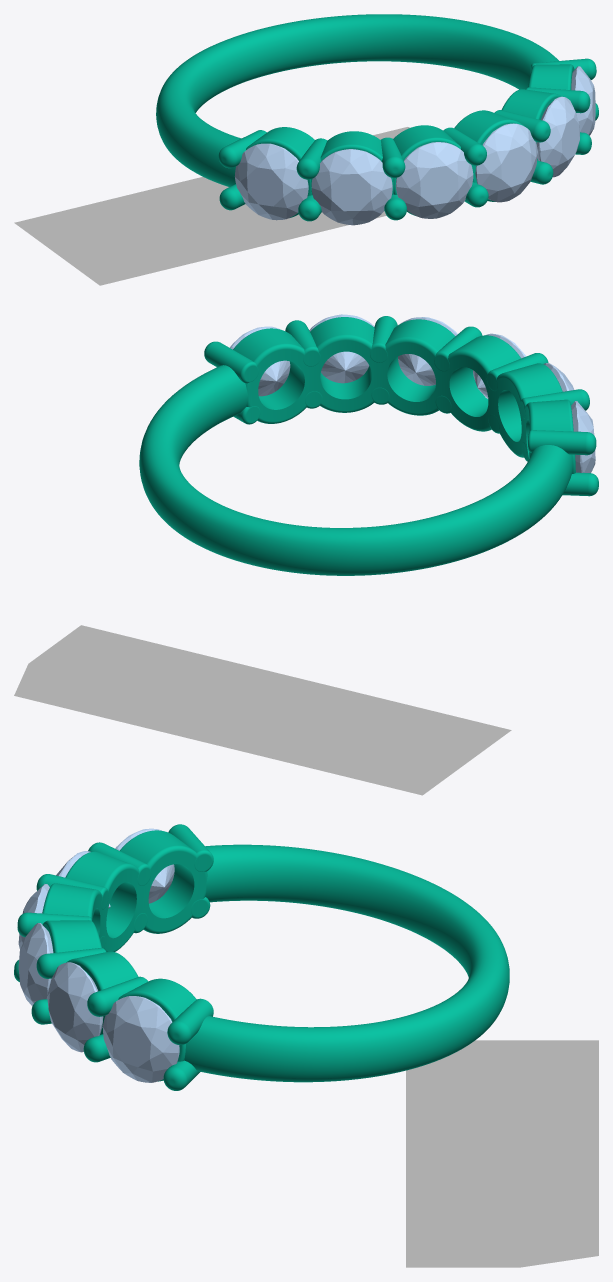
3 views of the same model, one above another, from view 1: azimuth 30°, elevation 25°; view 2: azimuth 150°, elevation 25°; view 3: azimuth 270°, elevation 25° (orthographic). The views are drawn at different scales.
Parts seen in each view (by area): view 1: VR837(base).3dm, Diamond_Round (×6), Bezel (×6); view 2: VR837(base).3dm, Bezel (×6), Diamond_Round (×4); view 3: VR837(base).3dm, Bezel (×6), Diamond_Round (×4).
Boxes of the visible parts, left/top/right/bottom form: VR837(base).3dm: left=14, top=14, right=598, bottom=285; Diamond_Round (×6): left=234, top=66, right=595, bottom=225; Bezel (×6): left=246, top=64, right=574, bottom=217; VR837(base).3dm: left=14, top=316, right=598, bottom=795; Bezel (×6): left=233, top=317, right=575, bottom=473; Diamond_Round (×4): left=230, top=314, right=595, bottom=472; VR837(base).3dm: left=14, top=824, right=598, bottom=1267; Bezel (×6): left=42, top=830, right=207, bottom=1081; Diamond_Round (×4): left=18, top=828, right=179, bottom=1082.
Size of the model in its own units: 3.06 by 1.56 by 3.33.
